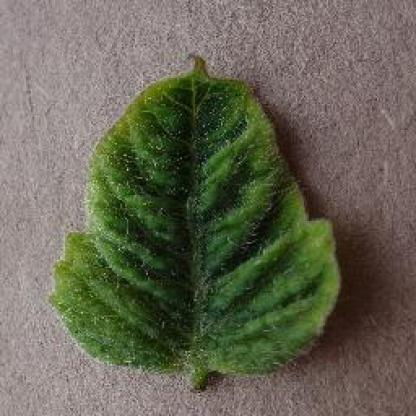bad leaf: (44, 44, 357, 374)
